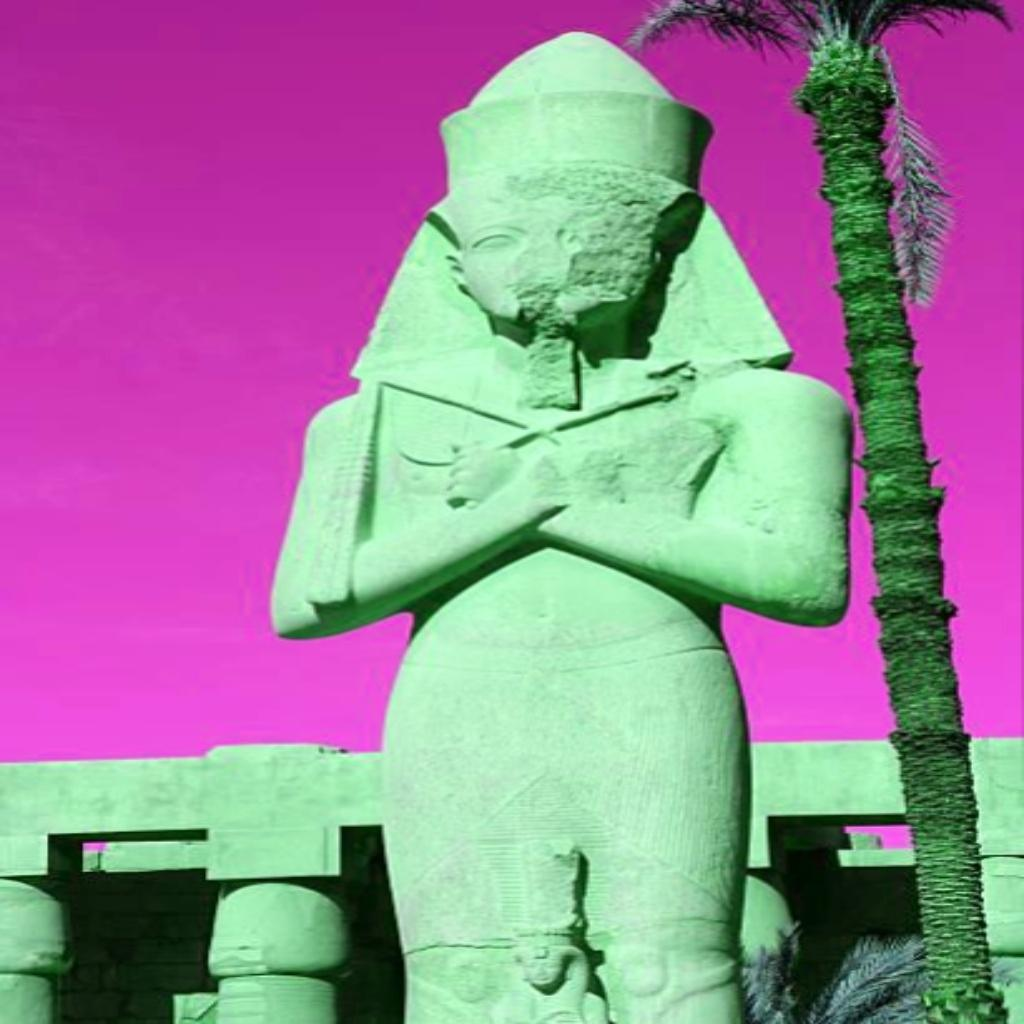Standing Statue of King Ramses II: (264, 28, 860, 1020)
